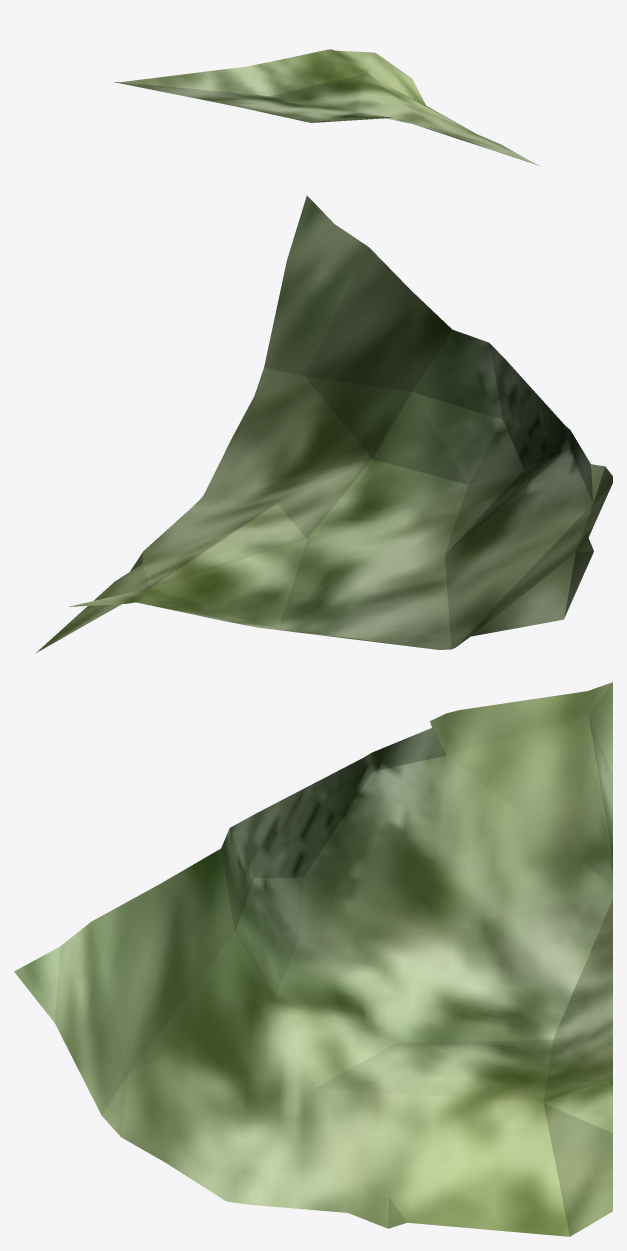
The picture shows the model from 3 angles, top to bottom: view 1: azimuth 30°, elevation 25°; view 2: azimuth 150°, elevation 25°; view 3: azimuth 270°, elevation 25°; orthographic projection. The views are drawn at different scales.
Bounding box in the file's own units: 0.9259 × 0.3957 × 0.8097.
1 material, 1 textured.
